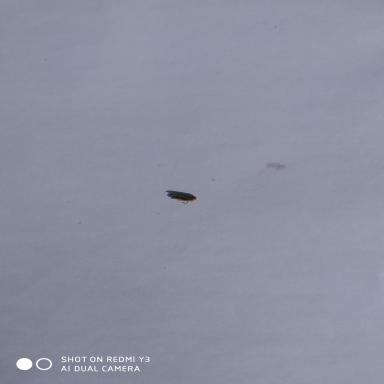pbw: (166, 190, 197, 205)
